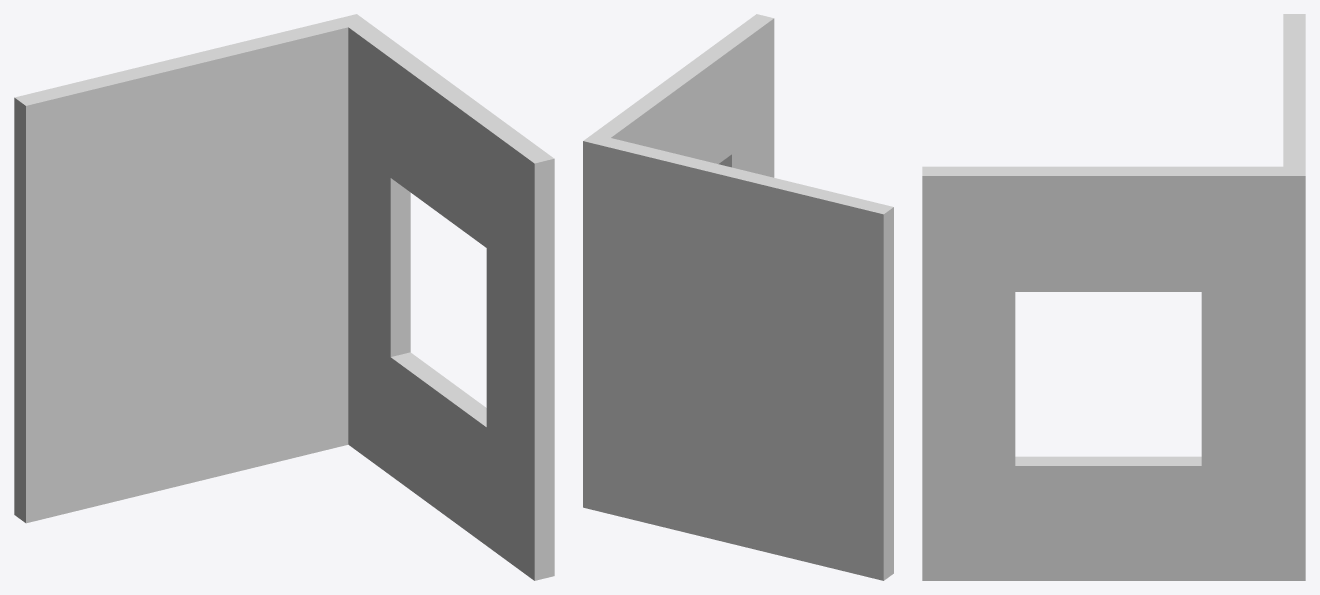
The model's file is Wall1_C1_11.fbx.
The picture shows the model from 3 angles, left to right: view 1: azimuth 30°, elevation 25°; view 2: azimuth 150°, elevation 25°; view 3: azimuth 270°, elevation 25°; orthographic projection. The views are drawn at different scales.
Parts seen in each view (by area): view 1: Wall1_C1_11; view 2: Wall1_C1_11; view 3: Wall1_C1_11.
Boxes of the visible parts, x1=… form: Wall1_C1_11: x1=14, y1=14, x2=554, y2=580; Wall1_C1_11: x1=583, y1=14, x2=893, y2=580; Wall1_C1_11: x1=922, y1=14, x2=1305, y2=580.
Size of the model in its own units: 258 by 300 by 258.
